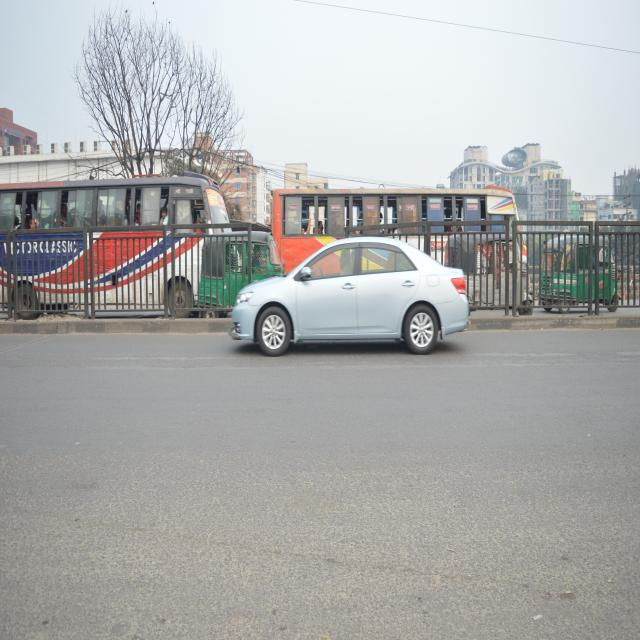bus: (262, 173, 535, 329), (0, 160, 240, 319)
car: (214, 218, 486, 379)
